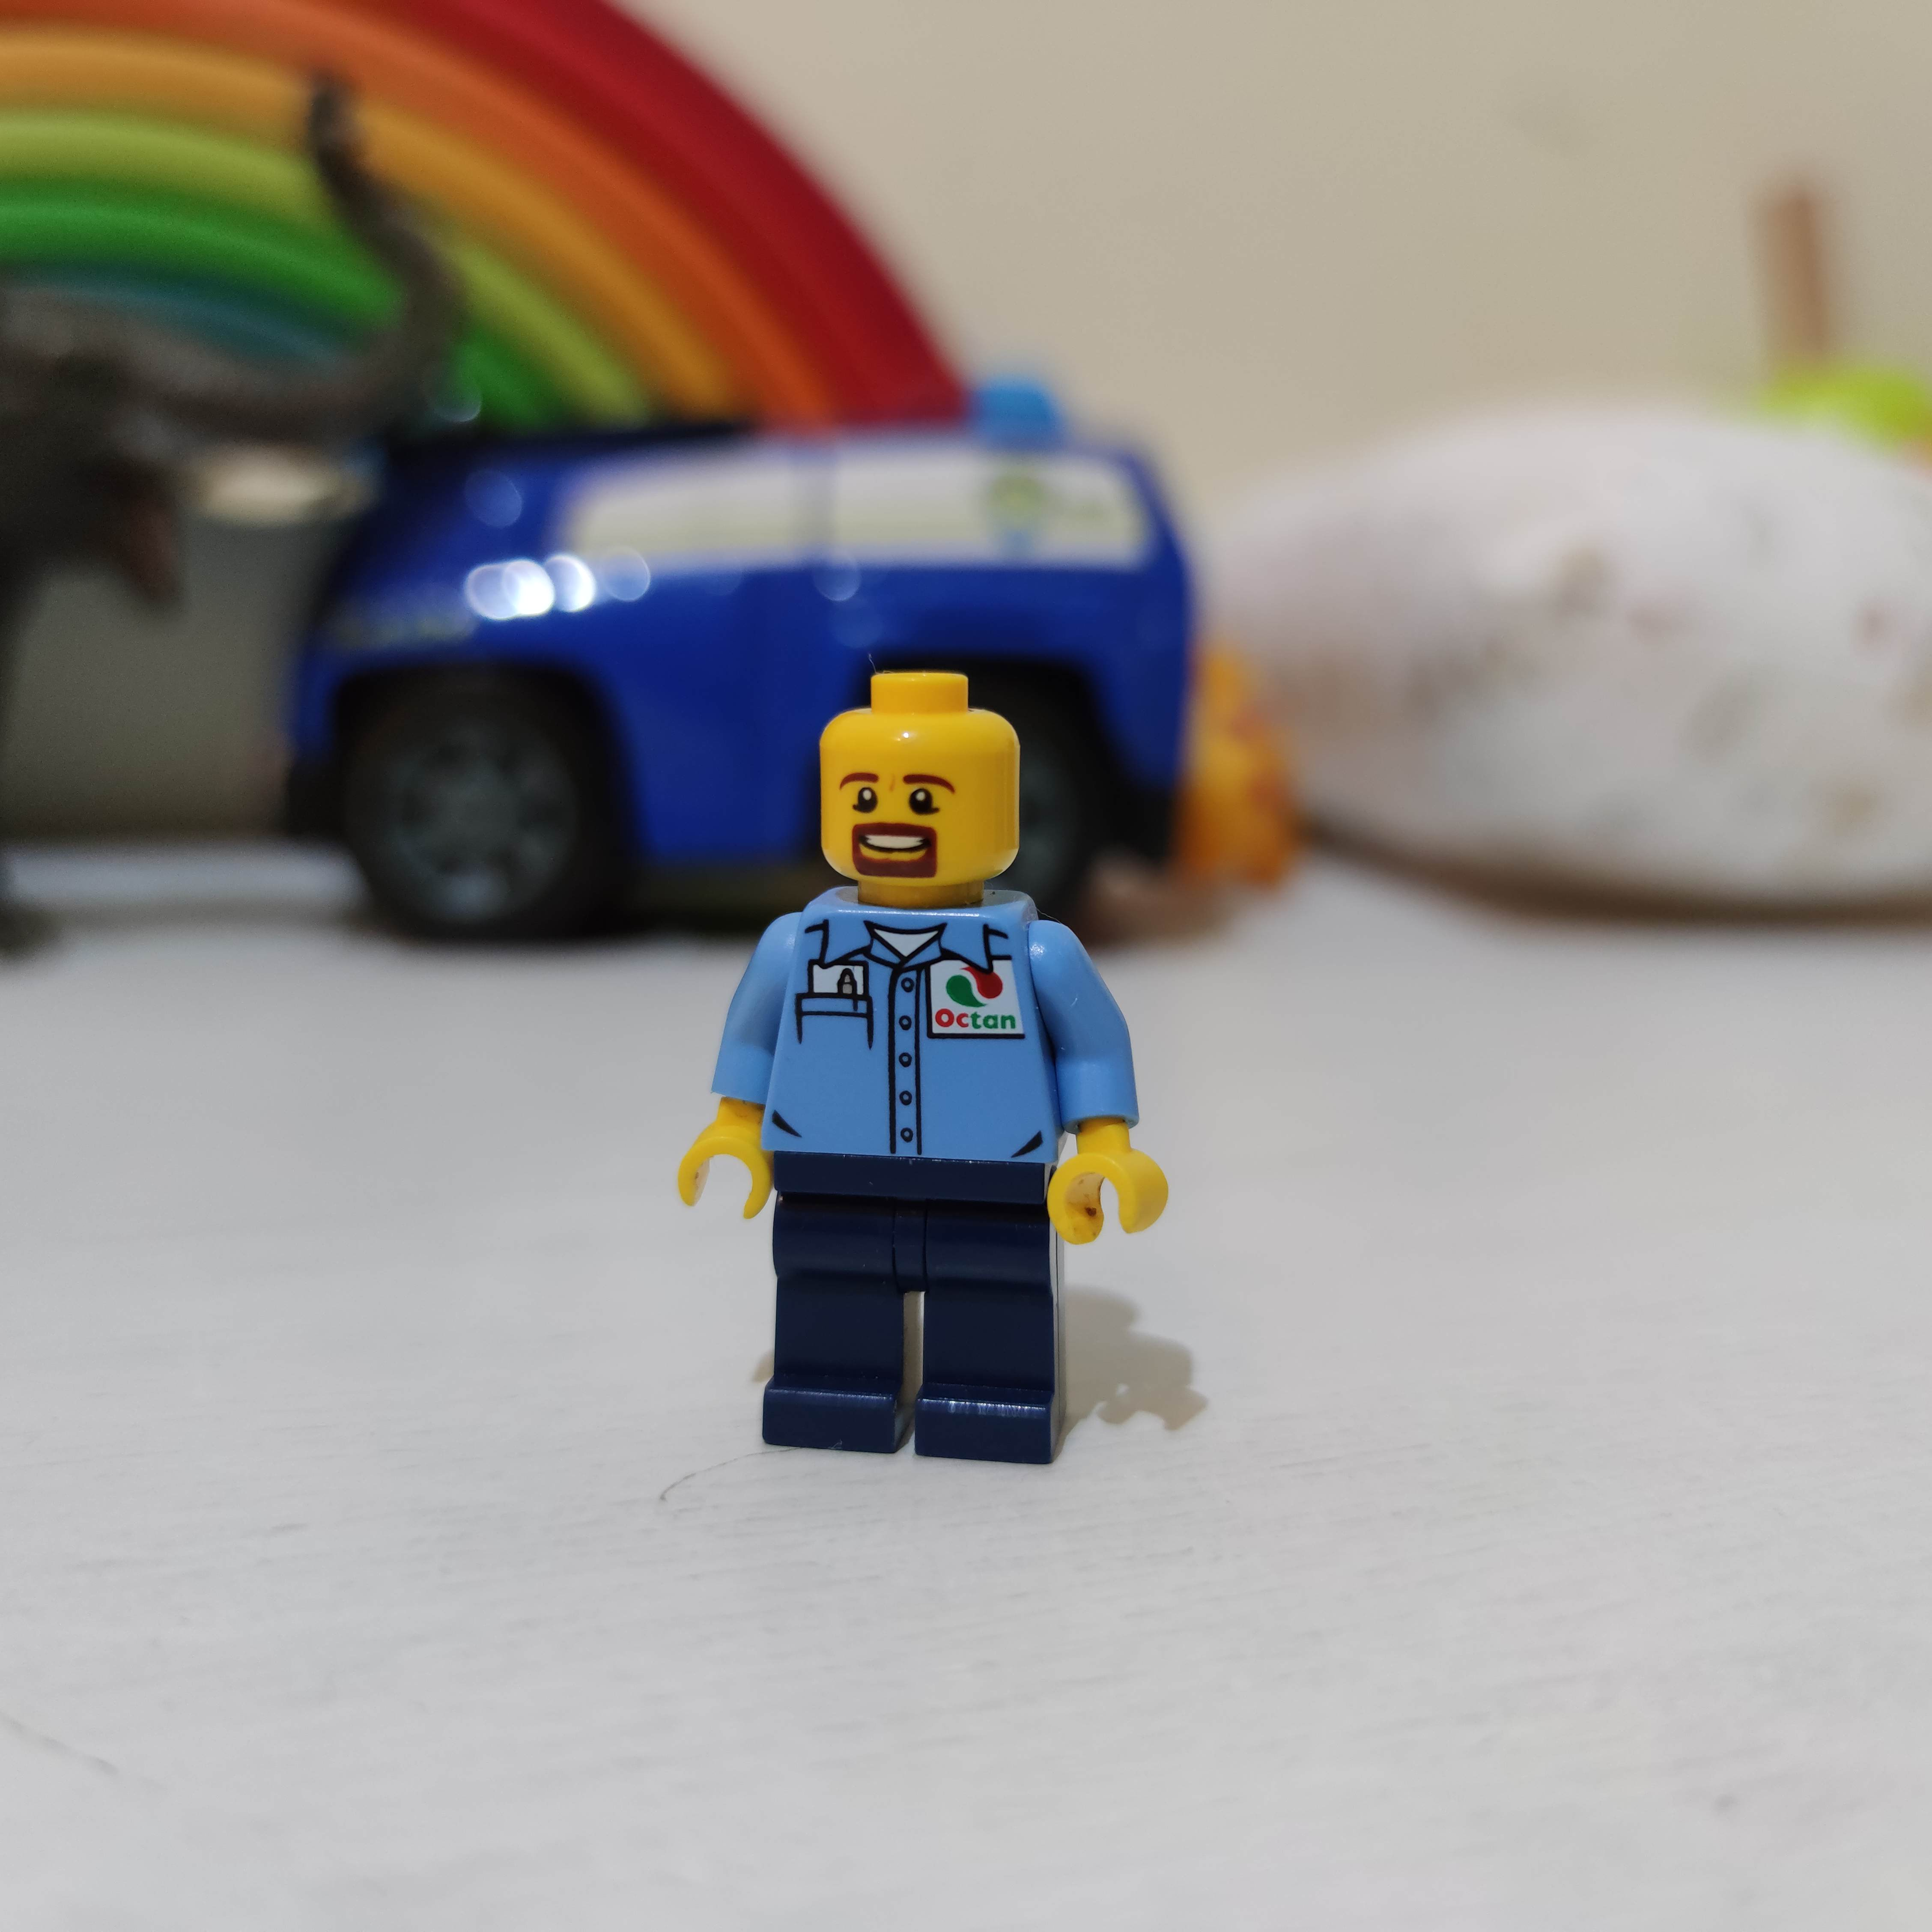lego: (660, 665, 1180, 1467)
